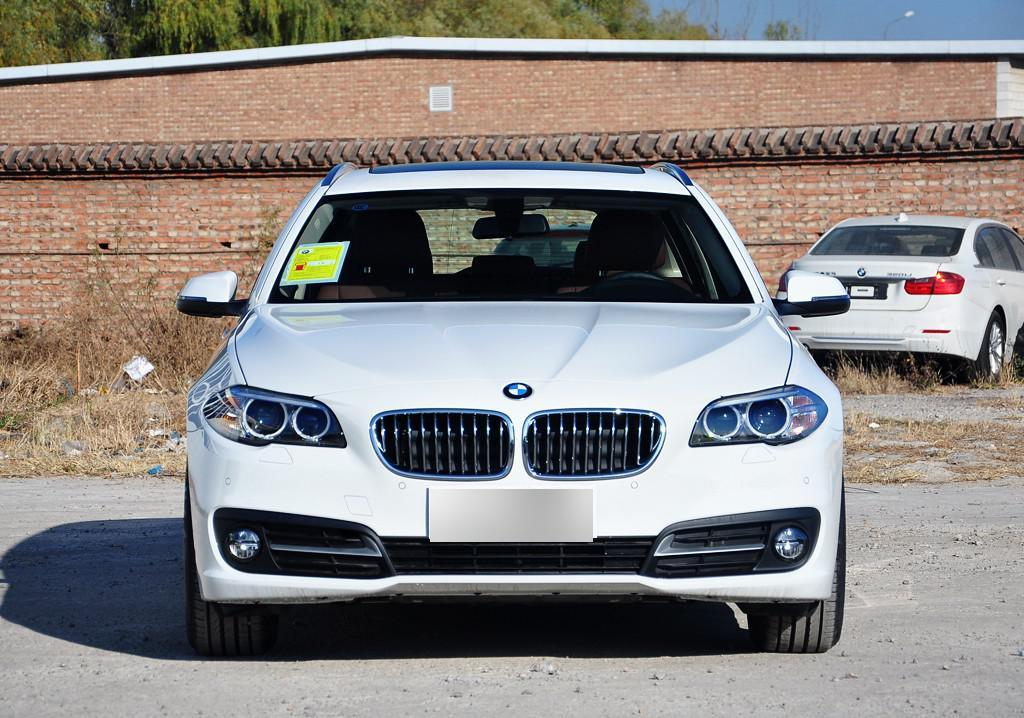Wagon: (176, 160, 854, 654)
